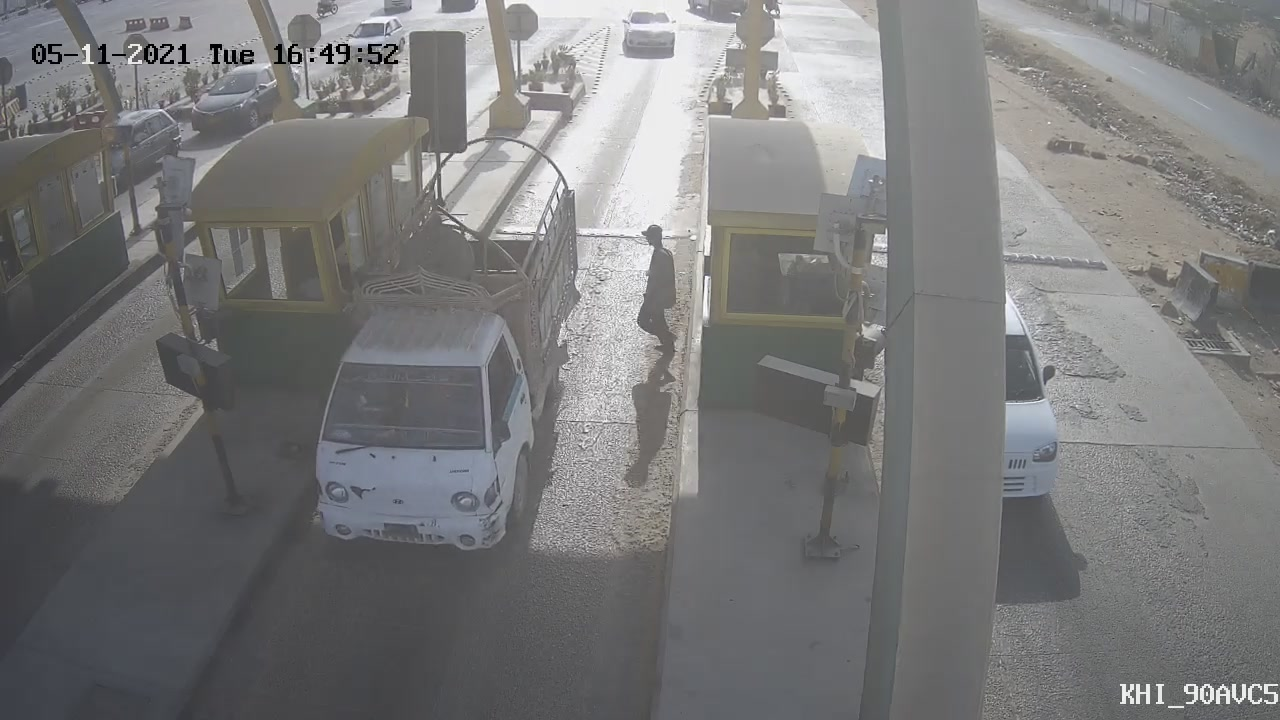F2: (274, 120, 598, 566)
